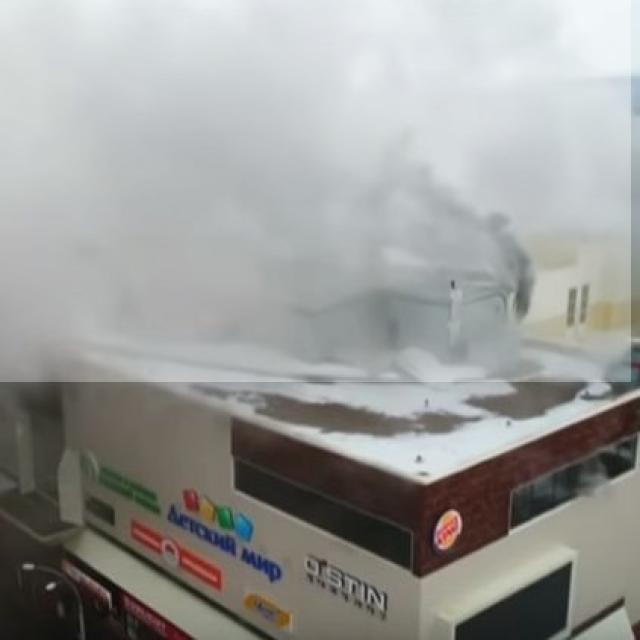Smoke: (0, 0, 631, 382)
